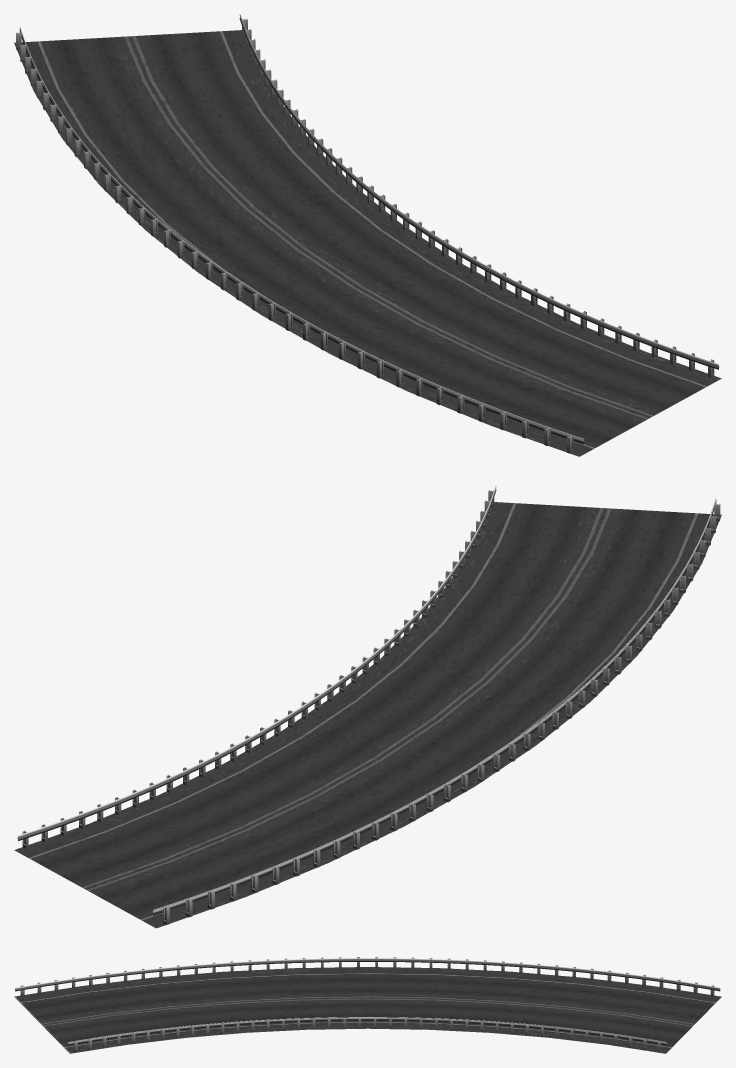
Rendered from maimi_street_45_doubleGL.FBX.
3 views of the same model, one above another, from view 1: azimuth 30°, elevation 25°; view 2: azimuth 150°, elevation 25°; view 3: azimuth 270°, elevation 25° (orthographic). The views are drawn at different scales.
Visible parts, largest first — view 1: Plane003, Group002; view 2: Plane003, Group002; view 3: Plane003, Group002.
Part boxes in pixels (x1=…): Plane003: x1=14, y1=30, x2=721, y2=456; Group002: x1=16, y1=14, x2=719, y2=453; Plane003: x1=14, y1=502, x2=721, y2=928; Group002: x1=17, y1=486, x2=720, y2=924; Plane003: x1=14, y1=967, x2=721, y2=1053; Group002: x1=15, y1=957, x2=720, y2=1052.
Bounding box in the file's own units: 492 × 27 × 1693.
